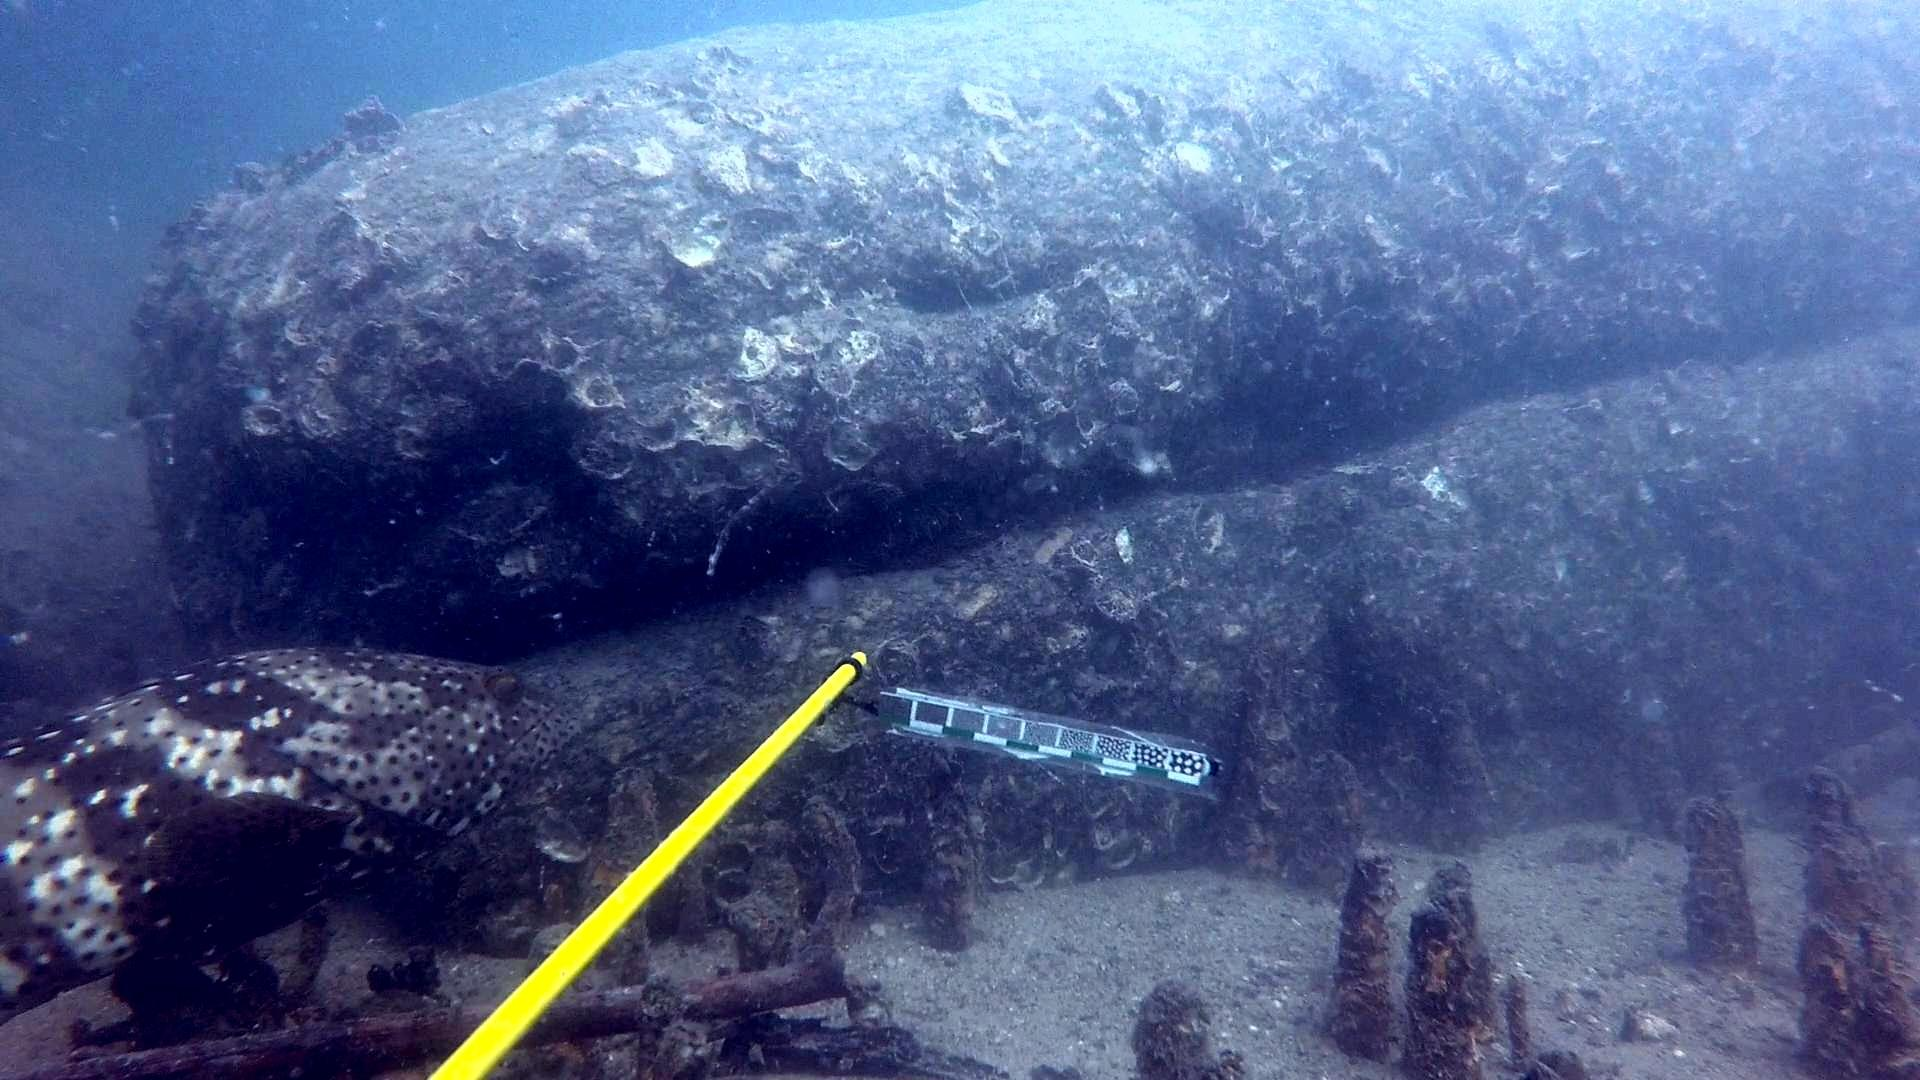epinephelus: (0, 643, 593, 1032)
